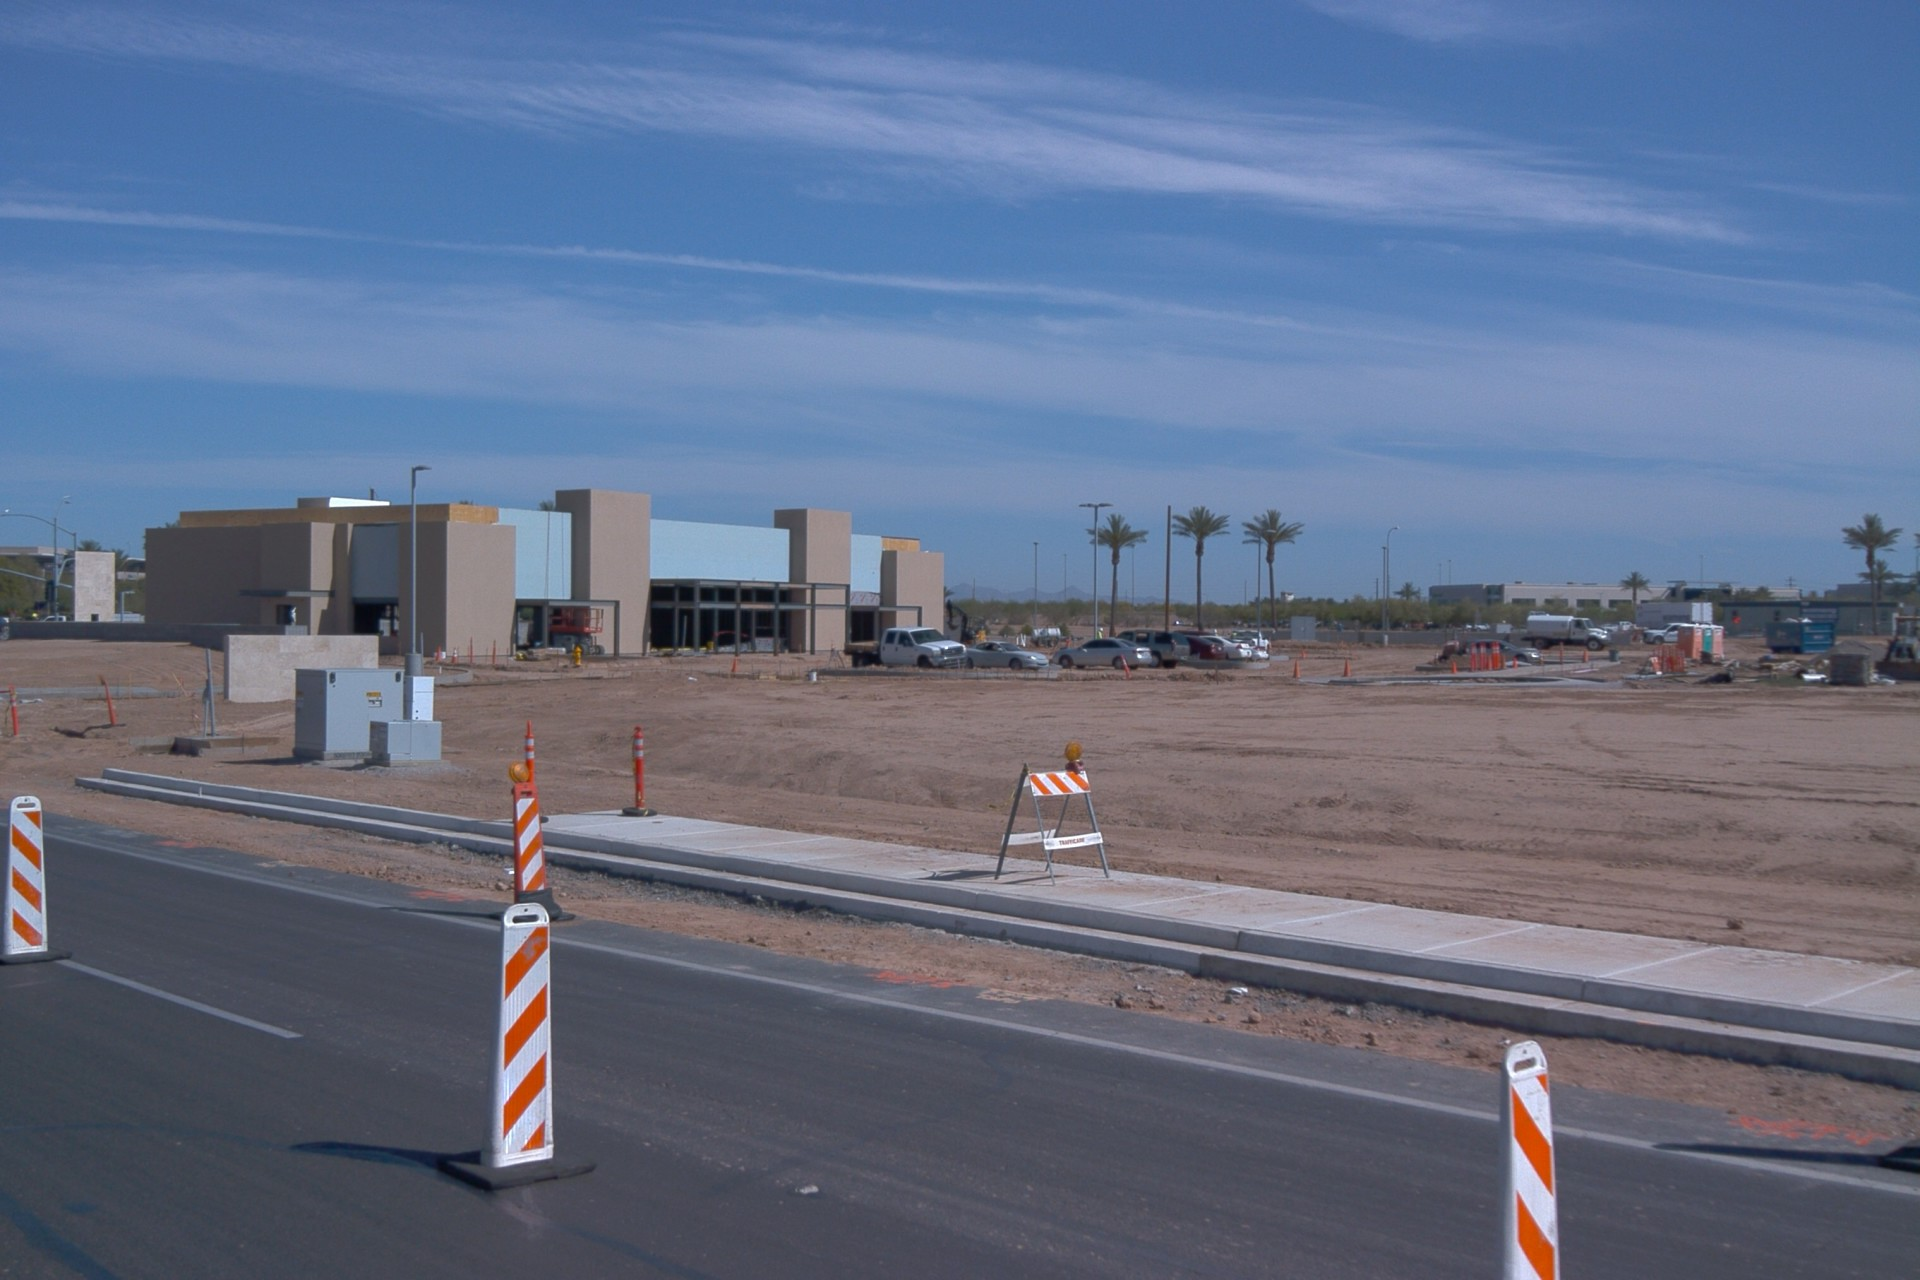TYPE_PEDESTRIAN: (1095, 623, 1107, 644), (1210, 627, 1220, 640), (1229, 629, 1239, 638)
TYPE_VEHICLE: (841, 620, 964, 669), (1520, 614, 1612, 658), (1050, 635, 1154, 673), (1116, 620, 1195, 669), (1874, 608, 1920, 681), (965, 637, 1053, 670), (1468, 635, 1541, 667), (1180, 628, 1230, 661), (1201, 633, 1254, 657), (1648, 624, 1698, 648), (1227, 629, 1268, 652), (1030, 628, 1071, 650), (1247, 645, 1269, 663), (1167, 633, 1212, 639), (39, 616, 67, 624), (1600, 624, 1620, 635), (1474, 622, 1493, 633), (1464, 623, 1471, 631)
